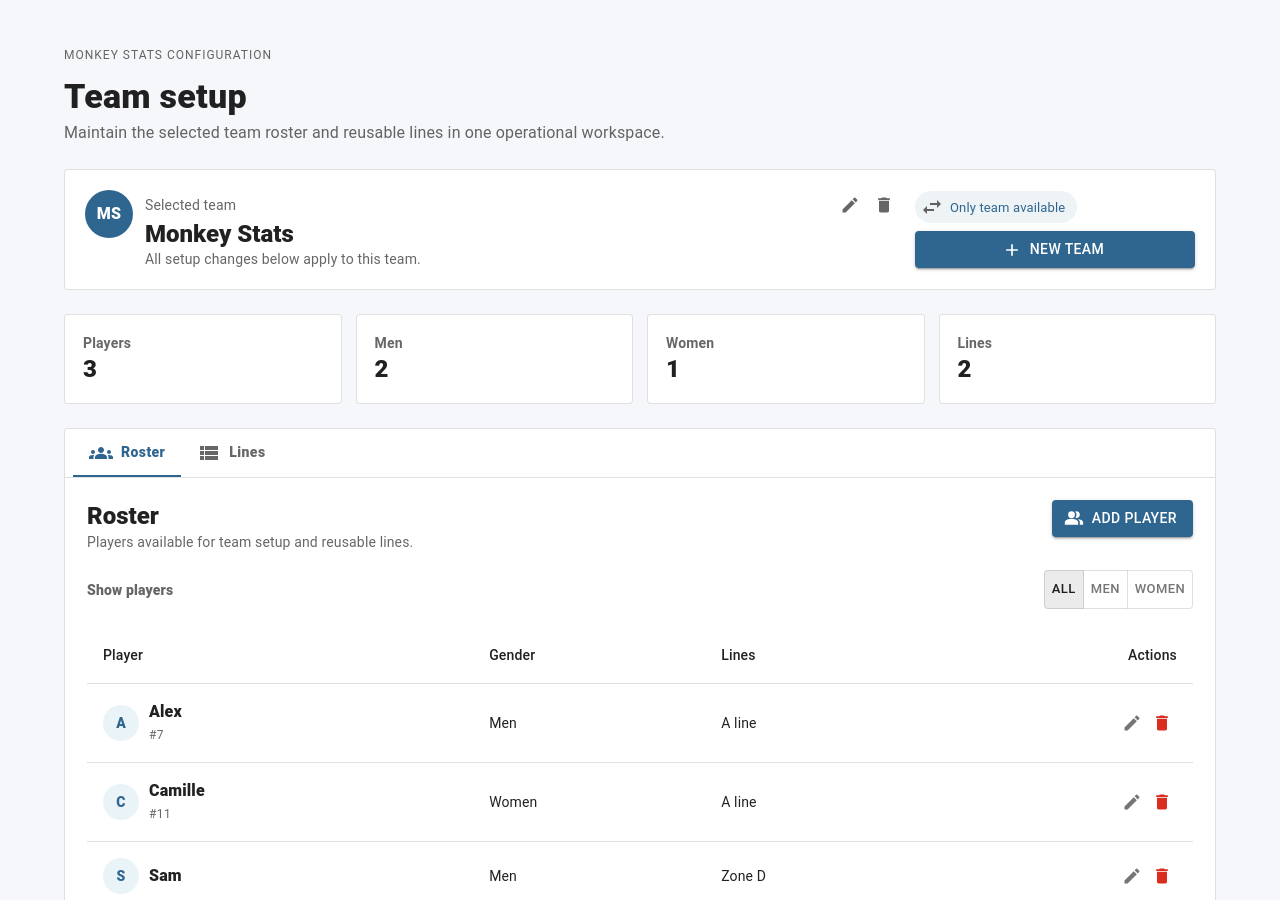
Test: TeamSetupPage › filters roster players and opens edit from the row affordance
The image size is (1280, 900).
Click the button "Women": point(1160, 590) [1127,570,1193,609]
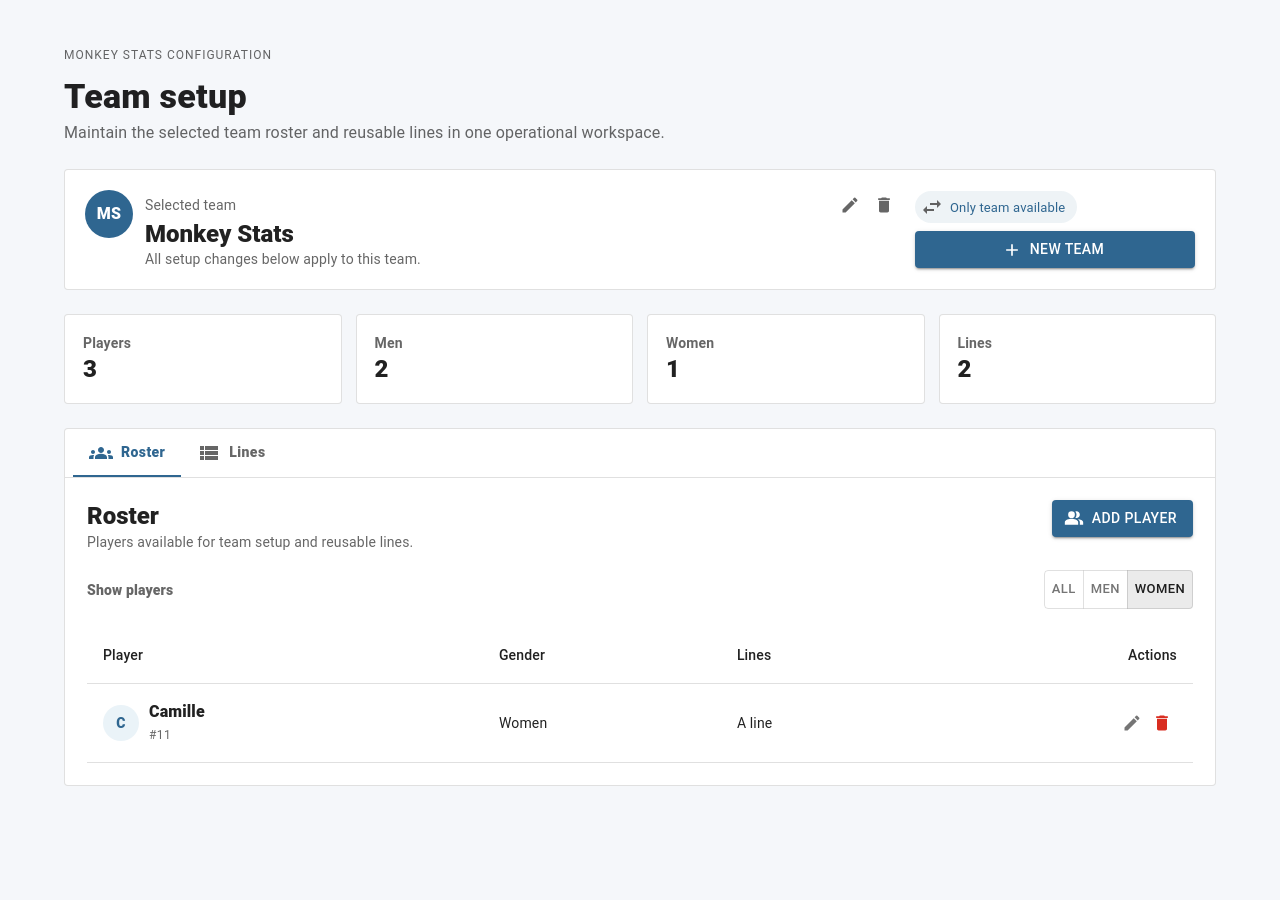
Check: the text "Alex" is gone
Click the button named "Edit Camille": point(1132, 723) [1117,708,1147,738]
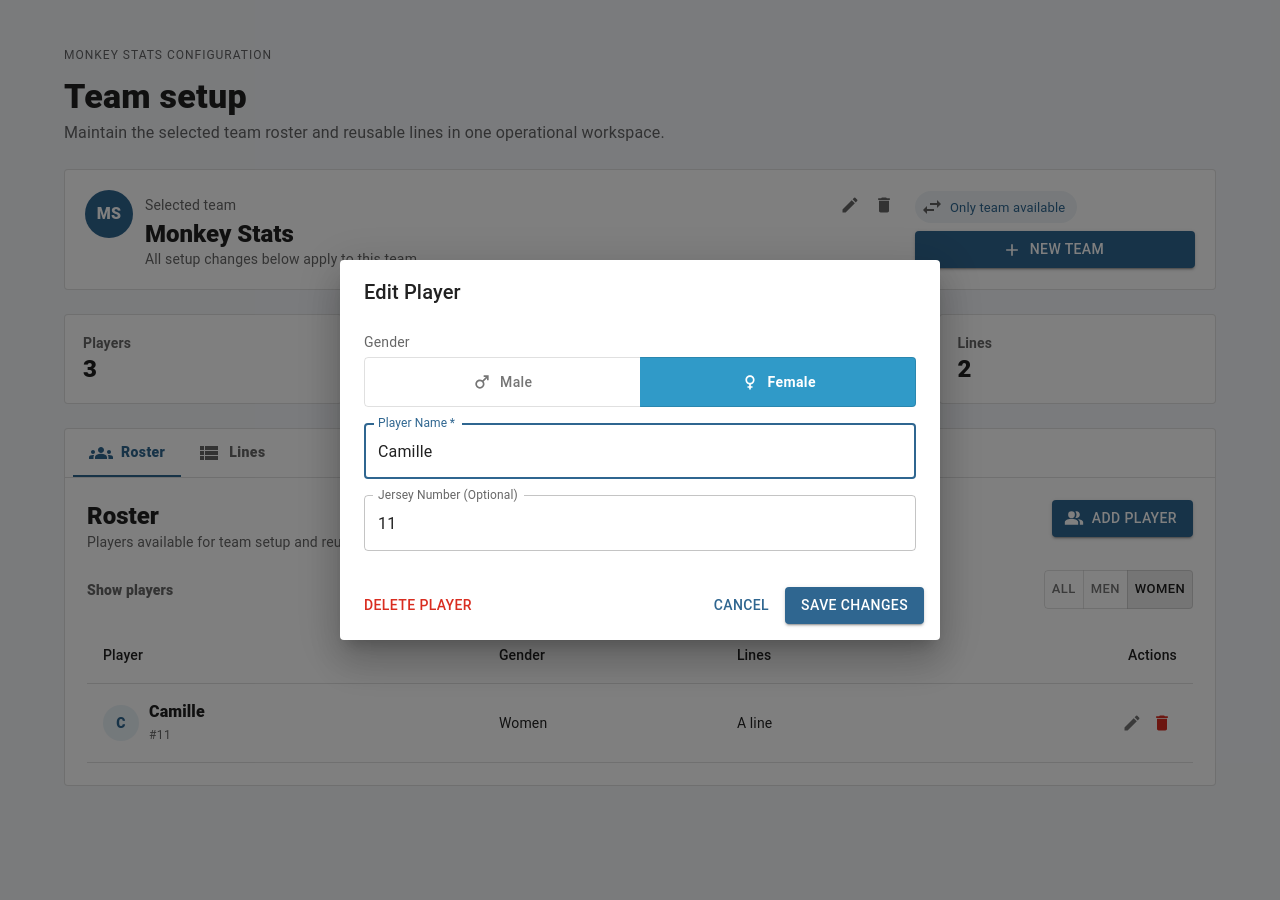
Check: the heading "Edit Player" is shown, box [364,280,461,304]
